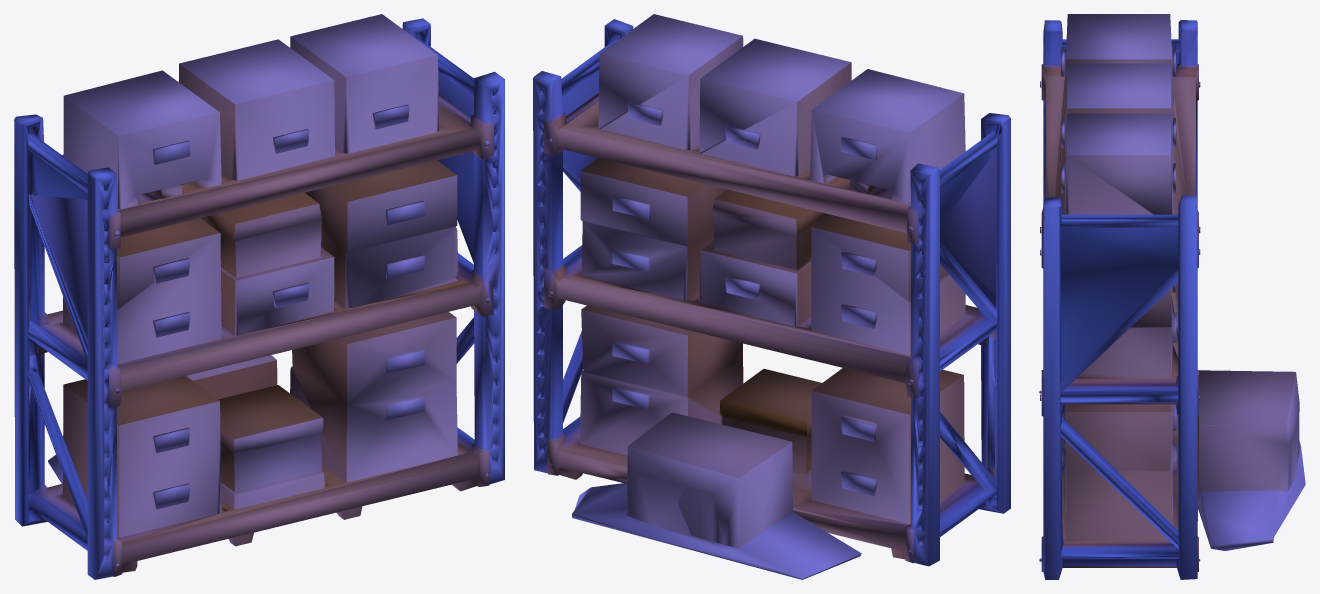
The model's file is model.progressive.glb.
3 renders of one model, left to right at view 1: azimuth 30°, elevation 25°; view 2: azimuth 150°, elevation 25°; view 3: azimuth 270°, elevation 25°, orthographic. The views are drawn at different scales.
Visible parts, largest first — view 1: material; view 2: material; view 3: material.
Part boxes in pixels (<box>): material: <box>14,14,504,579</box>; material: <box>533,14,1010,579</box>; material: <box>1039,14,1305,579</box>.
Bounding box in the file's own units: 1.88 × 1.89 × 1.14.
1 material, 1 textured.
